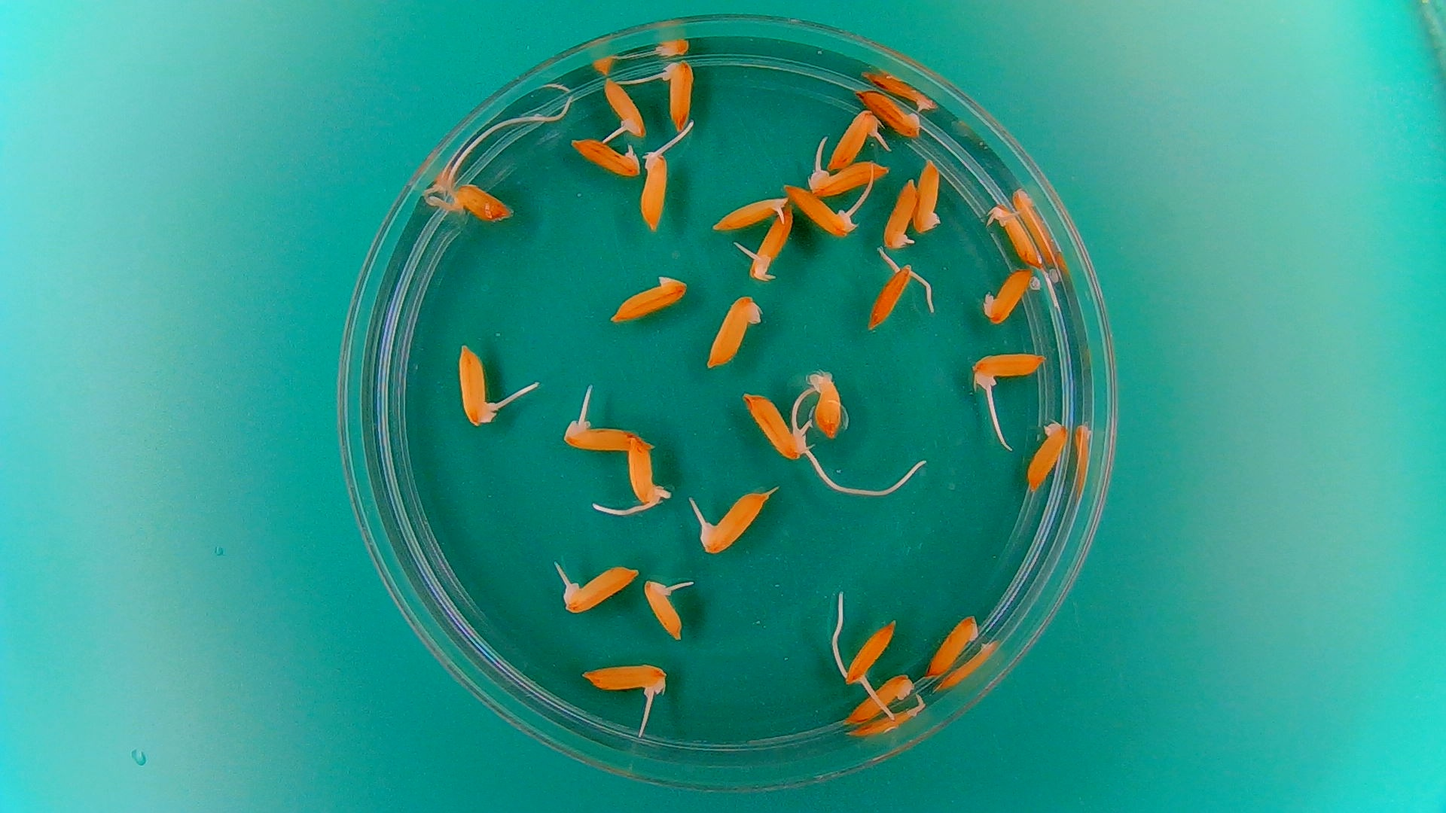no: (704, 291, 764, 370), (607, 270, 690, 324), (926, 610, 981, 680), (855, 86, 925, 140), (840, 674, 911, 726), (979, 266, 1039, 326), (1023, 418, 1070, 491), (914, 156, 944, 235)
yes: (697, 489, 767, 555), (743, 394, 808, 461), (840, 617, 898, 688), (561, 560, 636, 613), (986, 203, 1046, 269), (782, 182, 853, 236), (749, 205, 795, 279), (868, 260, 915, 331), (807, 155, 886, 196), (656, 56, 697, 135), (638, 142, 672, 234), (711, 193, 789, 233), (567, 136, 641, 178), (804, 370, 848, 440), (585, 664, 666, 702), (624, 437, 663, 512), (456, 349, 493, 428), (880, 175, 918, 251), (563, 416, 643, 452), (602, 76, 647, 138), (972, 353, 1045, 391), (830, 111, 878, 167), (642, 579, 685, 641), (450, 178, 509, 221)
